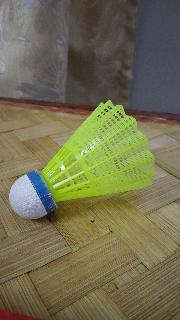shuttlecock: (9, 100, 155, 218)
